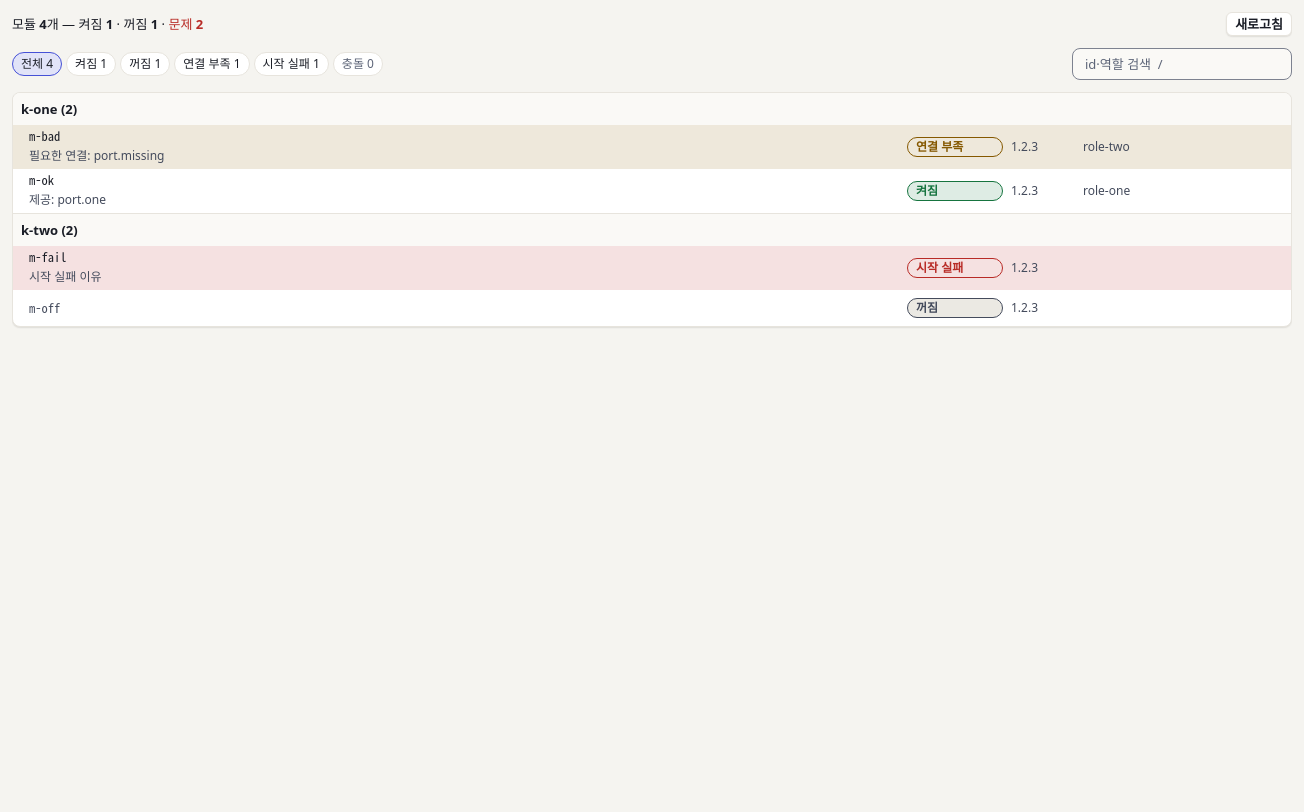
it: 설정의 기능 모듈 섹션 › 행을 펼치면 버전·계약·제공 연결·영향받는 화면과 부분이 보인다(켜진 모듈의 화면은 링크)
Step 1. Click the list item with aria-label "m-ok, 켜짐" → click(68, 200), box top-left (13, 169), bottom-right (1291, 213)
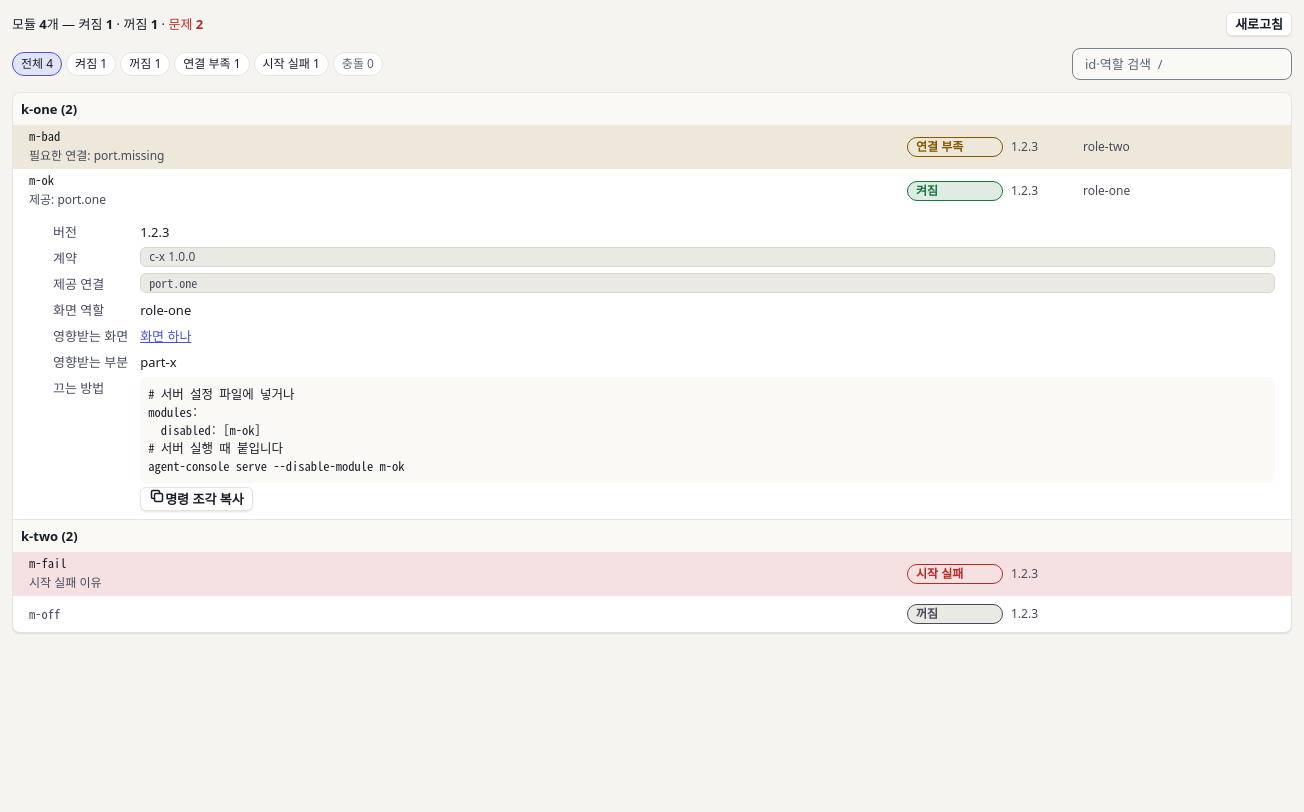
Check: the text "1.2.3" next to "버전" is shown, box top-left (140, 223), bottom-right (169, 241)
Check: the text "c-x 1.0.0" is shown, box top-left (140, 247), bottom-right (1275, 267)
Check: the text "port.one" is shown, box top-left (140, 273), bottom-right (1275, 293)
